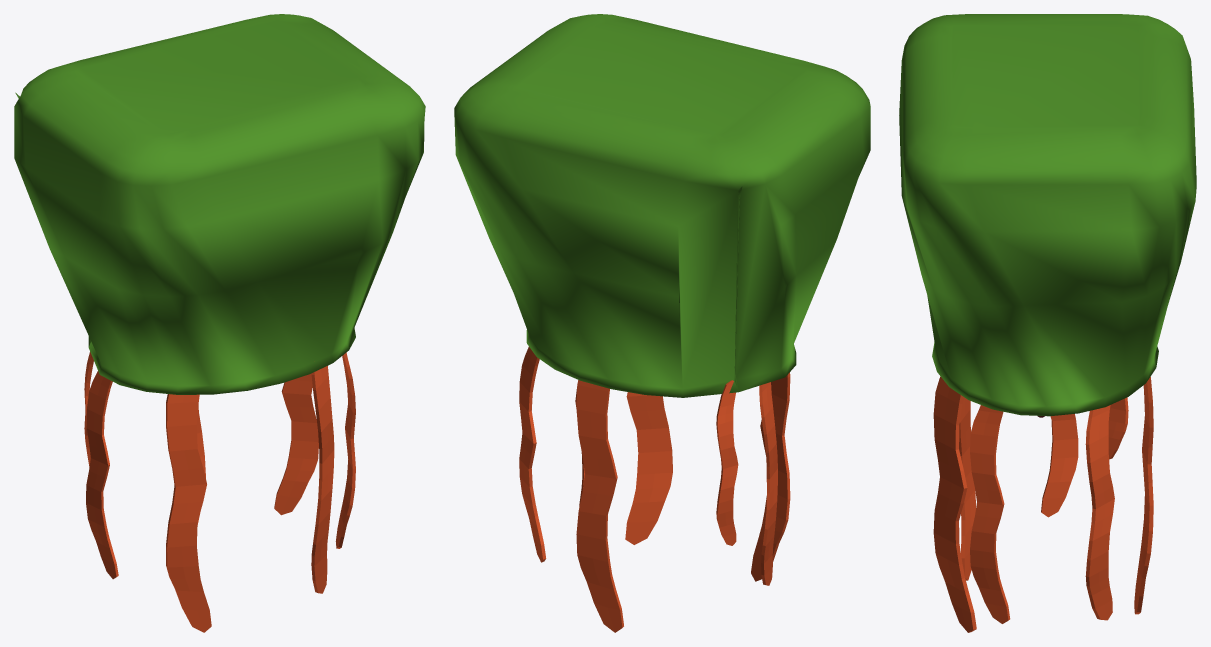
Rendered from lantern2.glb.
3 views of the same model, side by side, from view 1: azimuth 30°, elevation 25°; view 2: azimuth 150°, elevation 25°; view 3: azimuth 270°, elevation 25° (orthographic). The views are drawn at different scales.
Parts seen in each view (by area): view 1: Cube, Cube.011, Cube.004, Cube.009, Cube.001, Cube.002; view 2: Cube, Cube.006, Cube.001, Cube.011, Cube.004, Cube.008, Cube.009; view 3: Cube, Cube.001, Cube.002, Cube.004, Cube.009, Cube.006, Cube.011, Cube.008.
Boxes of the visible parts, <box> form: Cube: <box>14,14,425,394</box>; Cube.011: <box>166,394,211,632</box>; Cube.004: <box>274,373,318,515</box>; Cube.009: <box>86,371,118,579</box>; Cube.001: <box>311,366,334,593</box>; Cube.002: <box>335,352,355,548</box>; Cube: <box>454,14,870,397</box>; Cube.006: <box>576,380,623,632</box>; Cube.001: <box>625,392,672,544</box>; Cube.011: <box>751,372,790,581</box>; Cube.004: <box>519,347,546,562</box>; Cube.008: <box>716,380,738,545</box>; Cube.009: <box>759,382,777,585</box>; Cube: <box>899,14,1196,416</box>; Cube.001: <box>933,376,976,632</box>; Cube.002: <box>970,405,1010,623</box>; Cube.004: <box>1085,405,1114,620</box>; Cube.009: <box>1041,414,1078,517</box>; Cube.006: <box>1134,377,1153,614</box>; Cube.011: <box>959,397,975,580</box>; Cube.008: <box>1108,397,1128,459</box>.
Bounding box in the file's own units: 2.27 × 3.48 × 1.74.
